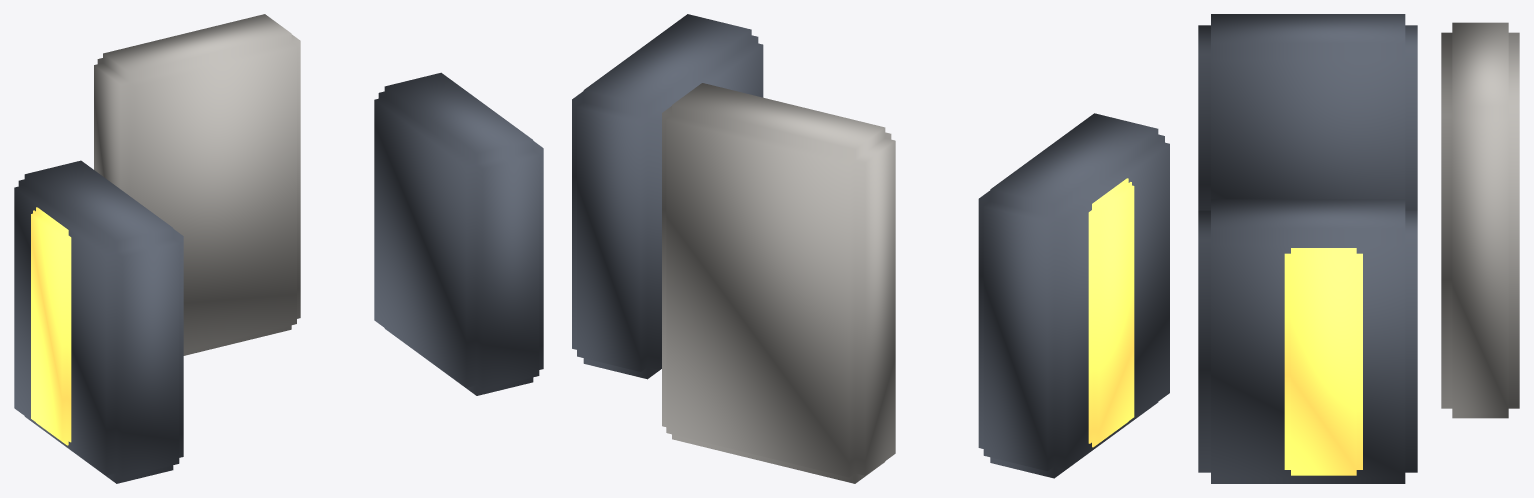
The model's file is laser_coil.glb.
3 views of the same model, side by side, from view 1: azimuth 30°, elevation 25°; view 2: azimuth 150°, elevation 25°; view 3: azimuth 270°, elevation 25° (orthographic). The views are drawn at different scales.
Visible parts, largest first — view 1: laser_coil; view 2: laser_coil; view 3: laser_coil.
Boxes of the visible parts, box(x1,y1,x2,y2) form: laser_coil: box(14, 14, 543, 483); laser_coil: box(572, 14, 1169, 483); laser_coil: box(1198, 14, 1519, 483).
Size of the model in its own units: 0.35 by 0.22 by 0.205.
